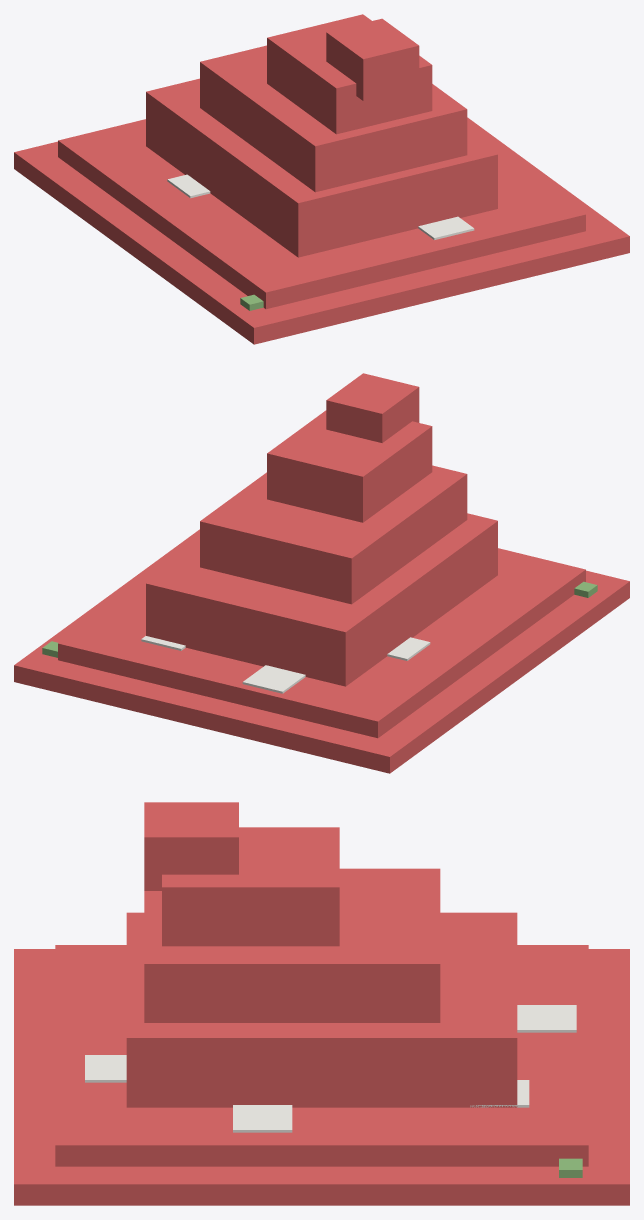
File: chapeu_cogumelo.glb
3 views of the same model, one above another, from view 1: azimuth 30°, elevation 25°; view 2: azimuth 150°, elevation 25°; view 3: azimuth 270°, elevation 25° (orthographic). The views are drawn at different scales.
Visible parts, largest first — view 1: chapeu_cogumelo; view 2: chapeu_cogumelo; view 3: chapeu_cogumelo.
Part boxes in pixels (x1,y1,x2,y2): chapeu_cogumelo: (14,14,629,344); chapeu_cogumelo: (14,373,629,773); chapeu_cogumelo: (14,802,629,1205).
Size of the model in its own units: 0.94 by 0.5 by 1.04.
